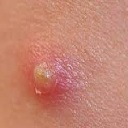Wart: (26, 56, 89, 103)
